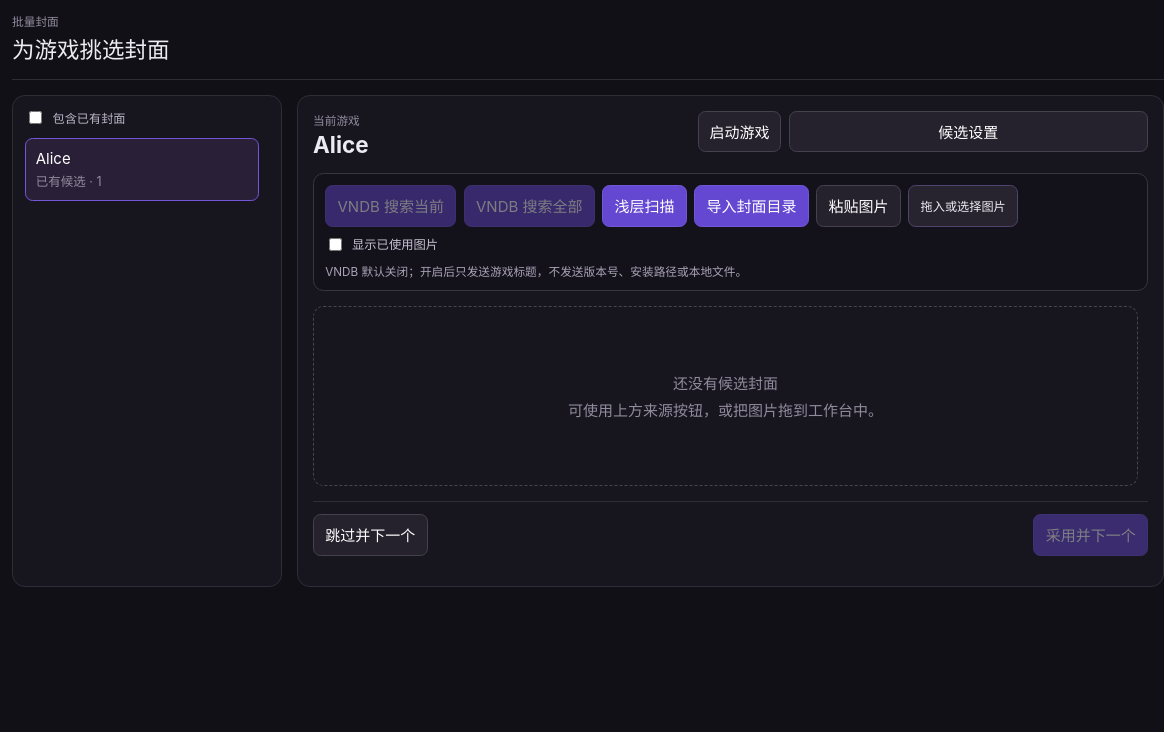
CoverWizardWorkspace › recovers the batch launch button after rejected promise
Step 1. Click the button with test id "cover-launch-current" → {"x": 740, "y": 132}, box [698,111,781,152]
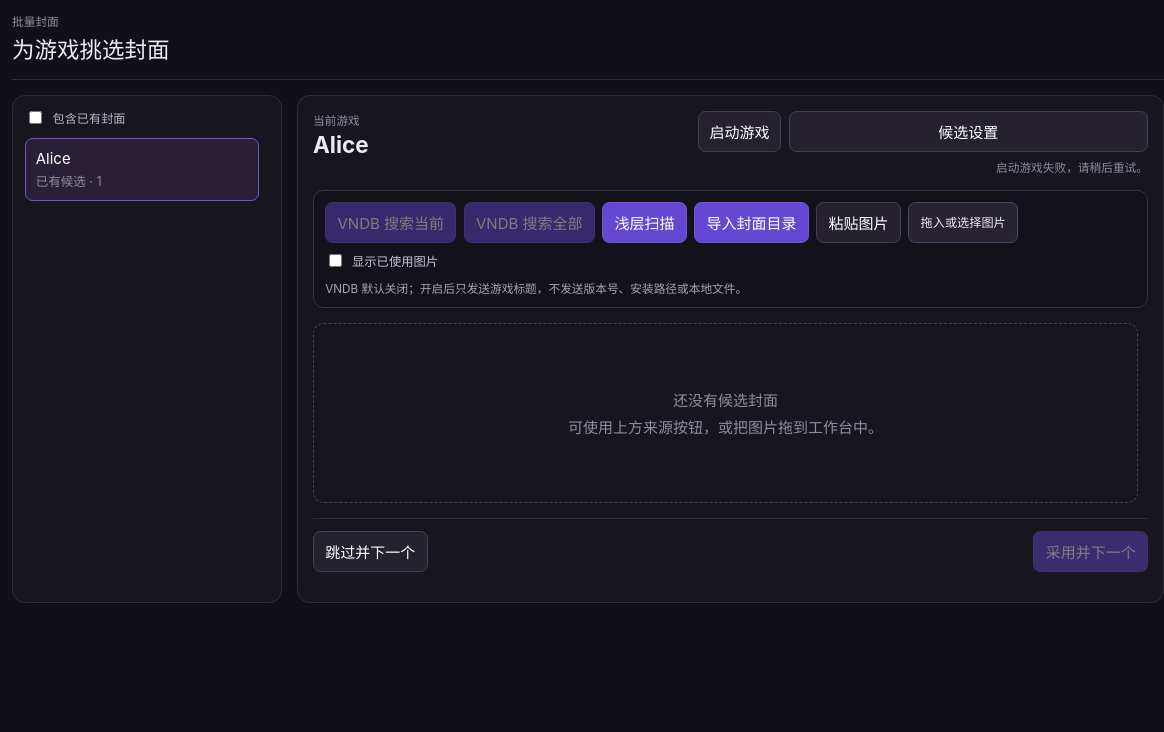
Result: the text with test id "cover-launch-message" reads "启动游戏失败，请稍后重试。" at [996,160,1148,174]
